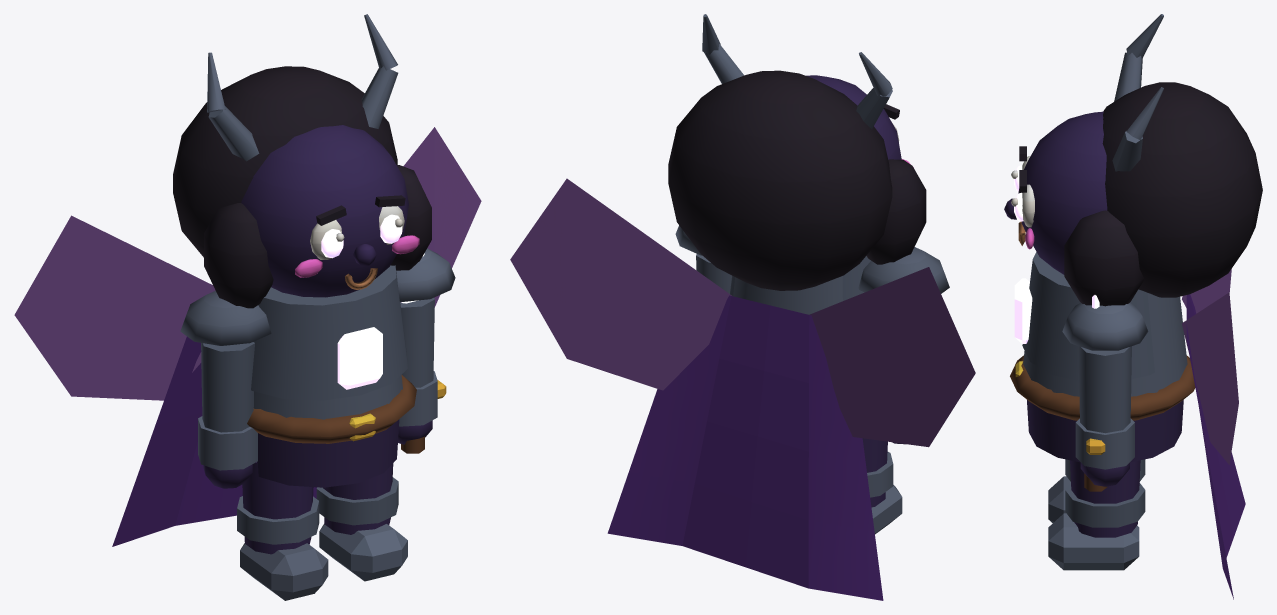
The model's file is hero_malakar.glb.
3 views of the same model, side by side, from view 1: azimuth 30°, elevation 25°; view 2: azimuth 150°, elevation 25°; view 3: azimuth 270°, elevation 25° (orthographic). The views are drawn at different scales.
Parts seen in each view (by area): view 1: body_t0_palette, arml_t0_palette, legl_t0_palette, legr_t0_palette, armr_t0_palette, body_t0_glow_violet; view 2: body_t0_palette, legl_t0_palette, arml_t0_palette, armr_t0_palette; view 3: body_t0_palette, armr_t0_palette, legr_t0_palette, body_t0_glow_violet, legl_t0_palette.
Part boxes in pixels (<box>): body_t0_palette: <box>14,14,481,546</box>; arml_t0_palette: <box>180,291,271,488</box>; legl_t0_palette: <box>237,462,328,600</box>; legr_t0_palette: <box>316,463,407,581</box>; armr_t0_palette: <box>396,248,455,453</box>; body_t0_glow_violet: <box>321,214,402,389</box>; body_t0_palette: <box>510,14,975,600</box>; legl_t0_palette: <box>862,438,902,534</box>; arml_t0_palette: <box>858,247,949,444</box>; armr_t0_palette: <box>675,225,731,293</box>; body_t0_palette: <box>1004,14,1262,599</box>; armr_t0_palette: <box>1062,303,1148,491</box>; legr_t0_palette: <box>1048,460,1145,570</box>; body_t0_glow_violet: <box>1014,165,1032,343</box>; legl_t0_palette: <box>1048,459,1145,522</box>.
Bounding box in the file's own units: 0.54 × 0.5711 × 0.271.
